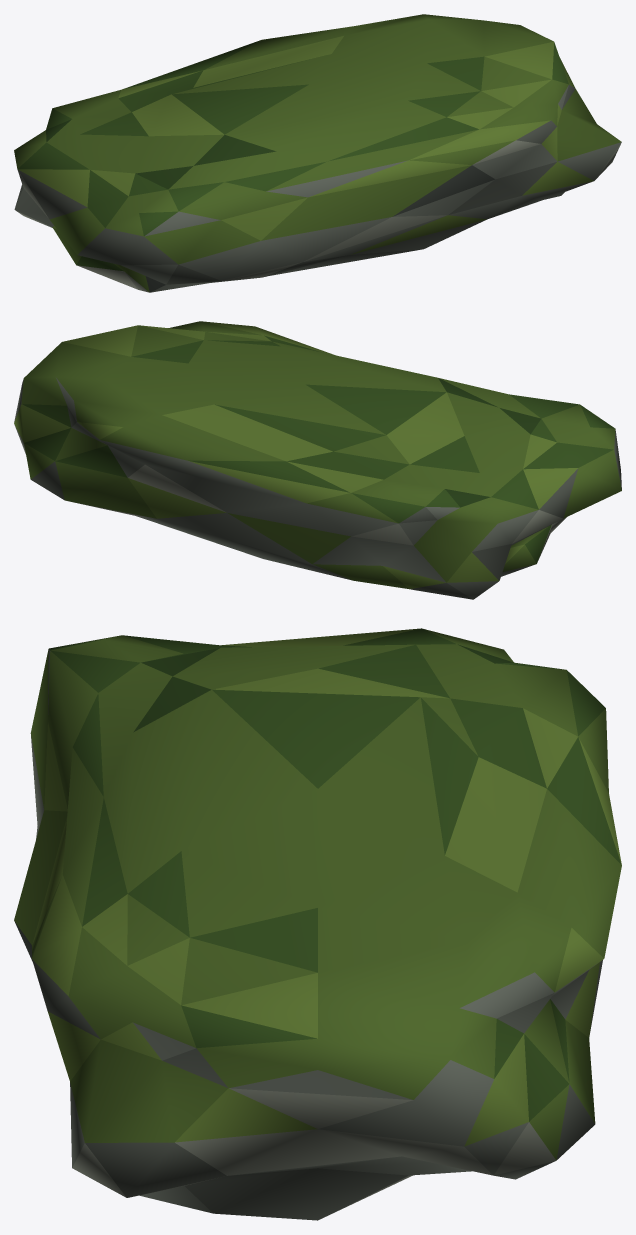
File: forest-cascade-ledge-1.glb
3 renders of one model, top to bottom at view 1: azimuth 30°, elevation 25°; view 2: azimuth 150°, elevation 25°; view 3: azimuth 270°, elevation 25°, orthographic. The views are drawn at different scales.
Parts seen in each view (by area): view 1: forest-cascade-ledge-1/0; view 2: forest-cascade-ledge-1/0; view 3: forest-cascade-ledge-1/0.
Boxes of the visible parts, x1=… form: forest-cascade-ledge-1/0: x1=14, y1=14, x2=621, y2=292; forest-cascade-ledge-1/0: x1=14, y1=321, x2=621, y2=599; forest-cascade-ledge-1/0: x1=14, y1=628, x2=621, y2=1220.
Size of the model in its own units: 5.82 by 1.48 by 3.13.
